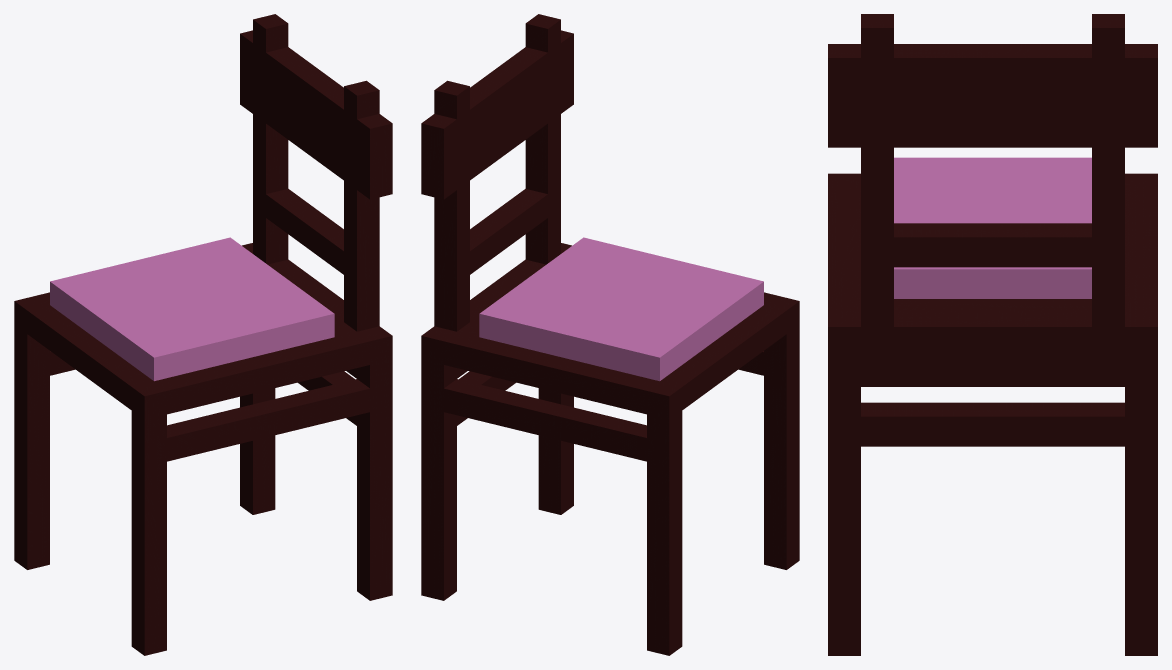
The model's file is chair.obj.
The picture shows the model from 3 angles, left to right: view 1: azimuth 30°, elevation 25°; view 2: azimuth 150°, elevation 25°; view 3: azimuth 270°, elevation 25°; orthographic projection. The views are drawn at different scales.
Bounding box in the file's own units: 1.1 × 2.1 × 1.
